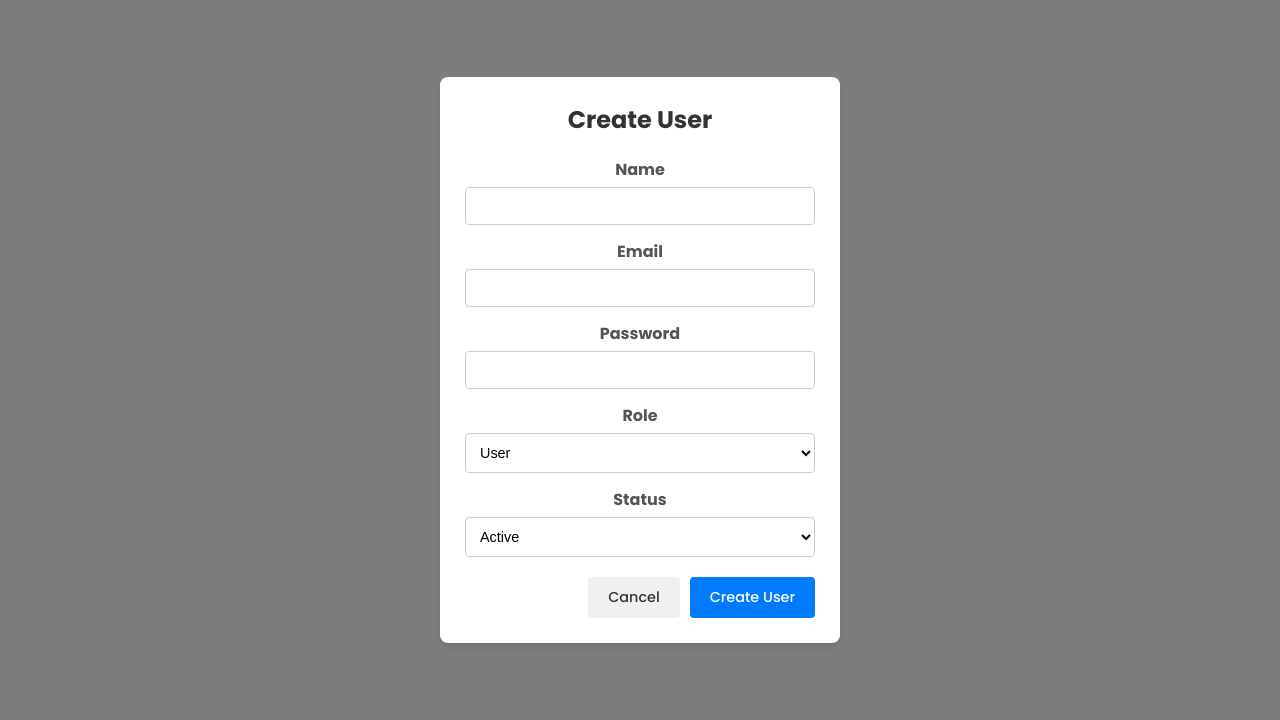
UserForm Component › should show validation errors for required fields (name, email)
Click the button "Create User" at x=752, y=598, box [690,577,815,618]
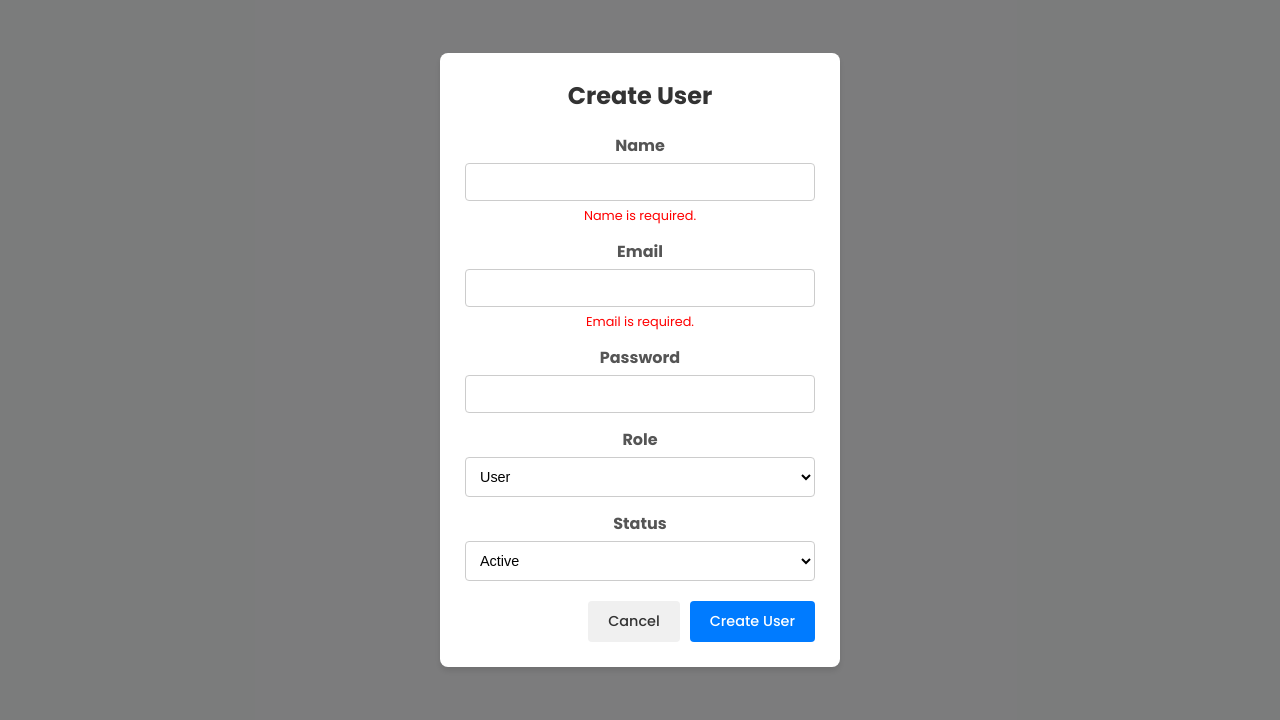
Expected: the text "Name is required." is shown, [584,207,696,224]
Expected: the text "Email is required." is shown, [586,313,694,330]
